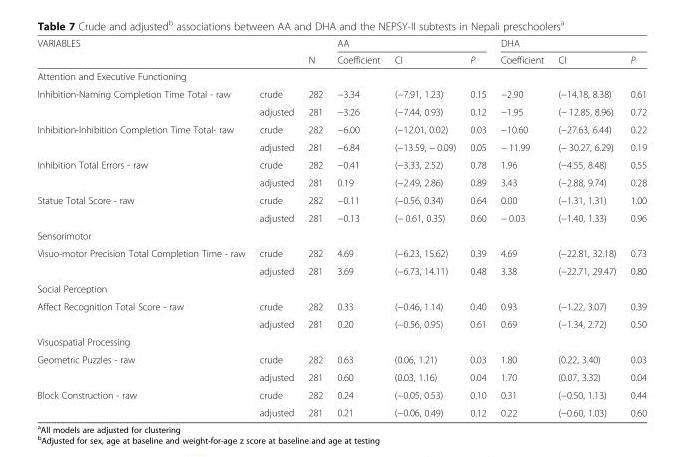table: (36, 37, 646, 417)
table column: (36, 37, 251, 417), (386, 37, 462, 417), (550, 37, 622, 417), (492, 37, 550, 417), (329, 37, 386, 417), (251, 37, 300, 417), (462, 37, 492, 417), (300, 37, 329, 417), (622, 37, 646, 417)
table column header: (36, 37, 646, 67)
table projected row header: (36, 332, 646, 350), (36, 67, 646, 84), (36, 226, 646, 243), (36, 279, 646, 296)
table row: (36, 84, 646, 102), (36, 102, 646, 120), (36, 137, 646, 155), (36, 155, 646, 173), (36, 190, 646, 208), (36, 208, 646, 226), (36, 243, 646, 261), (36, 261, 646, 279), (36, 296, 646, 314), (36, 314, 646, 332), (36, 332, 646, 350), (36, 350, 646, 368), (36, 385, 646, 403), (36, 67, 646, 84), (36, 120, 646, 137), (36, 173, 646, 190), (36, 226, 646, 243), (36, 279, 646, 296), (36, 368, 646, 385), (36, 51, 646, 67), (36, 37, 646, 51), (36, 403, 646, 417)
table spanning cell: (36, 84, 251, 120), (36, 190, 251, 226), (36, 243, 251, 279), (36, 296, 251, 332), (36, 120, 251, 155), (36, 155, 251, 190), (36, 350, 251, 385), (36, 385, 251, 417), (36, 37, 251, 67), (329, 37, 492, 51), (492, 37, 646, 51), (300, 37, 329, 67)
